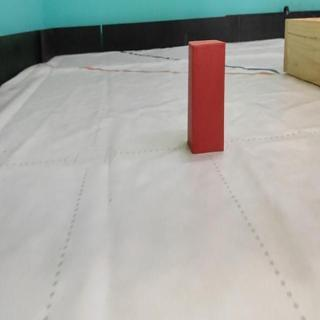redbox: (187, 39, 226, 155)
